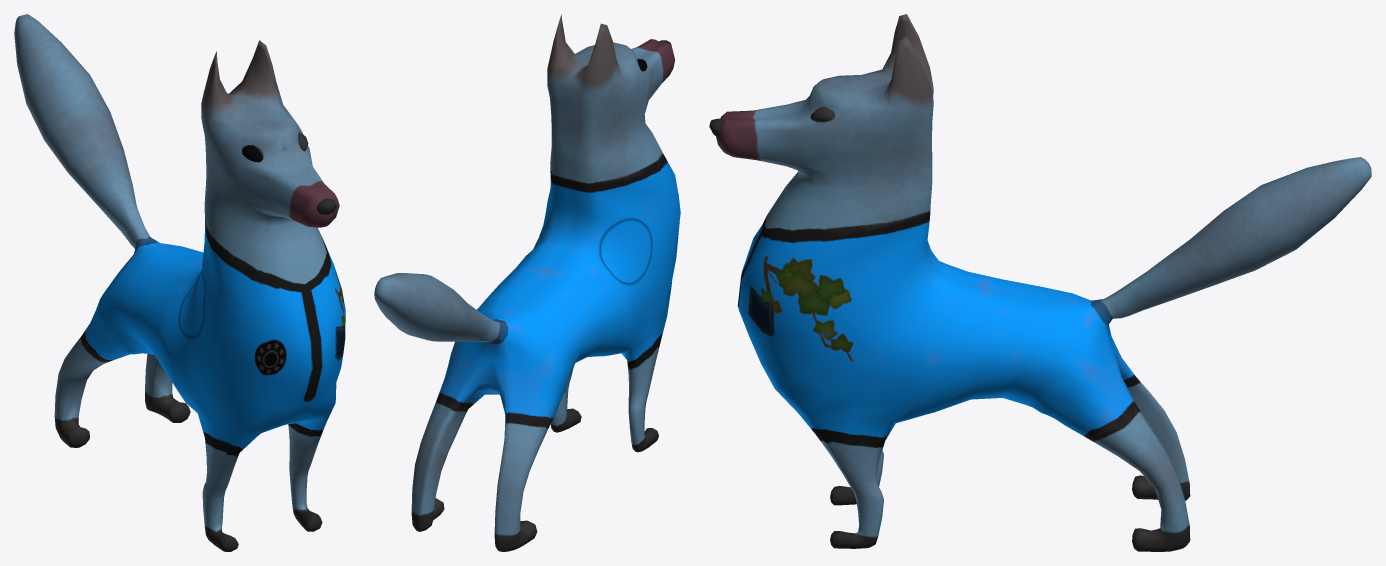
Rendered from wolf.glb.
3 views of the same model, side by side, from view 1: azimuth 30°, elevation 25°; view 2: azimuth 150°, elevation 25°; view 3: azimuth 270°, elevation 25° (orthographic). The views are drawn at different scales.
Visible parts, largest first — view 1: Plane006; view 2: Plane006; view 3: Plane006.
Boxes of the visible parts, box(x1,y1,x2,y2) form: Plane006: box(14, 14, 345, 551); Plane006: box(374, 14, 680, 551); Plane006: box(716, 14, 1371, 551).
Bounding box in the file's own units: 0.1095 × 0.3996 × 0.4786.
Materials: 4 (1 with a texture image).
